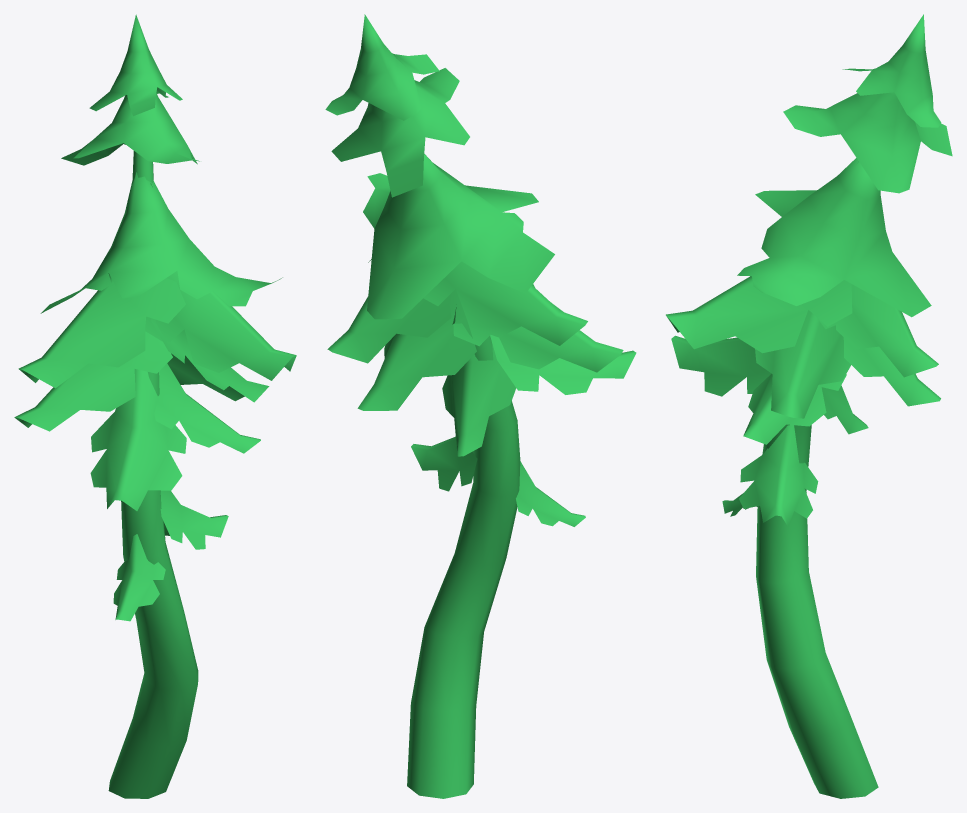
File: SM_FirTree_02_LOD0.fbx
The picture shows the model from 3 angles, left to right: view 1: azimuth 30°, elevation 25°; view 2: azimuth 150°, elevation 25°; view 3: azimuth 270°, elevation 25°; orthographic projection. The views are drawn at different scales.
Visible parts, largest first — view 1: FirTree_02_LOD0; view 2: FirTree_02_LOD0; view 3: FirTree_02_LOD0.
Boxes of the visible parts, x1=… form: FirTree_02_LOD0: x1=14, y1=14, x2=296, y2=798; FirTree_02_LOD0: x1=325, y1=14, x2=636, y2=798; FirTree_02_LOD0: x1=666, y1=14, x2=952, y2=798.
Size of the model in its own units: 285 by 793 by 261.
